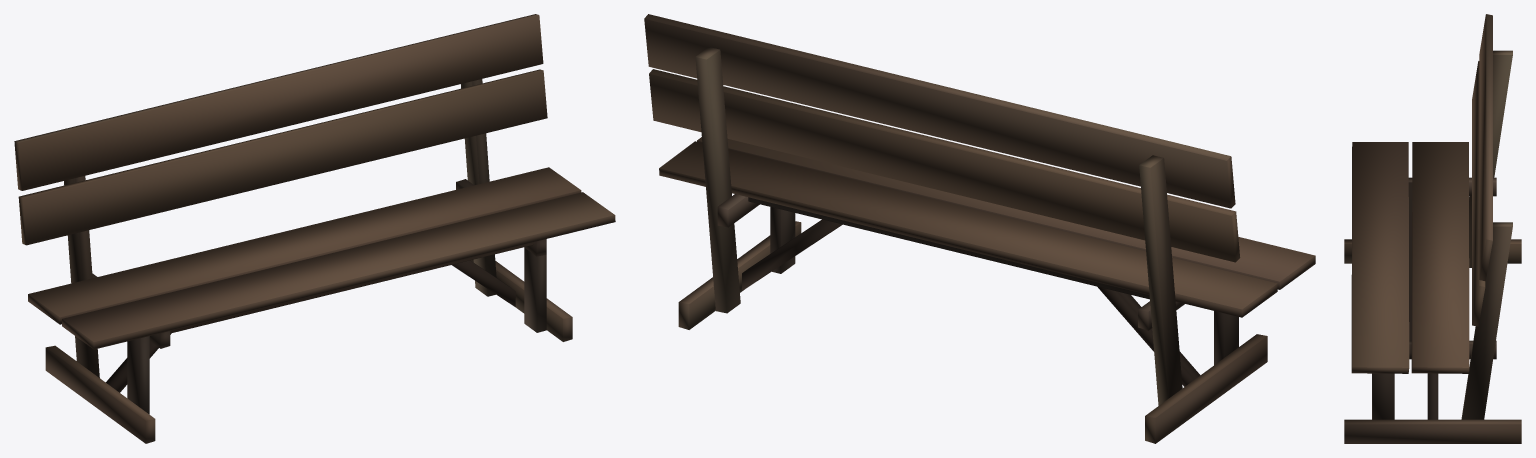
The picture shows the model from 3 angles, left to right: view 1: azimuth 30°, elevation 25°; view 2: azimuth 150°, elevation 25°; view 3: azimuth 270°, elevation 25°; orthographic projection. The views are drawn at different scales.
Visible parts, largest first — view 1: WoodenBenchSimple; view 2: WoodenBenchSimple; view 3: WoodenBenchSimple.
Boxes of the visible parts, x1,y1,x2,y2 form: WoodenBenchSimple: (14, 14, 615, 443); WoodenBenchSimple: (644, 14, 1315, 443); WoodenBenchSimple: (1344, 14, 1521, 443).
Bounding box in the file's own units: 0.5 × 0.2333 × 0.1664.
